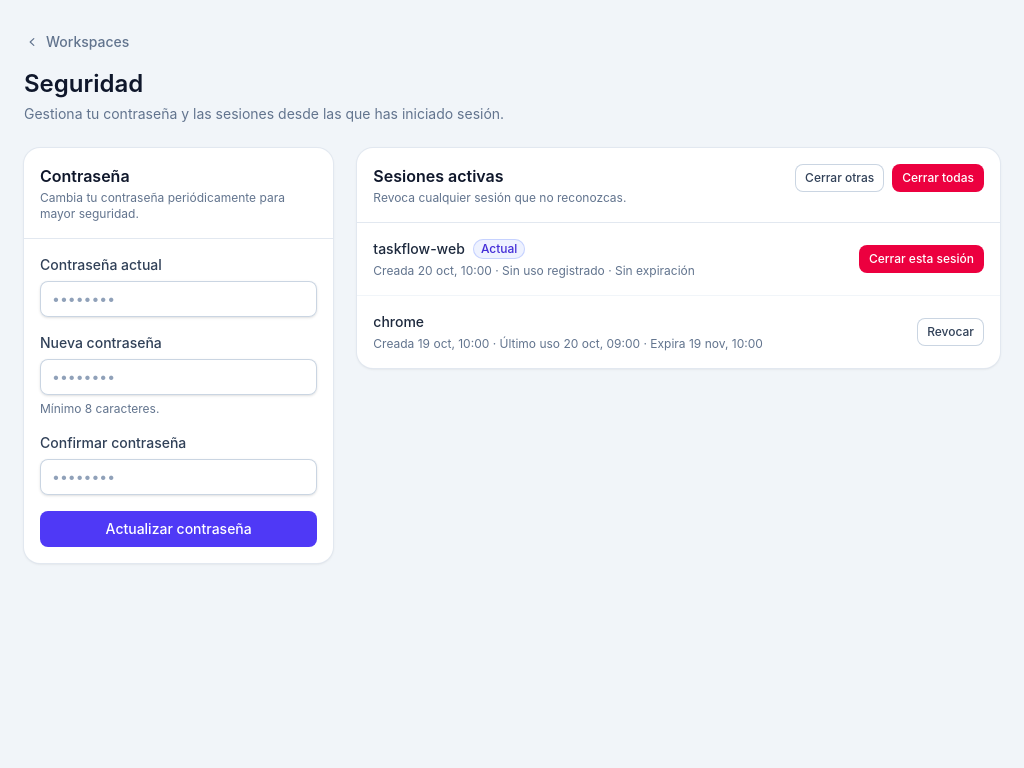
Test: SecurityPage › updates the password using the current password
This screenshot has width=1024, height=768.
Type "password" into the password field labelled "Contraseña actual" at (179, 299), box [40,281,317,317]
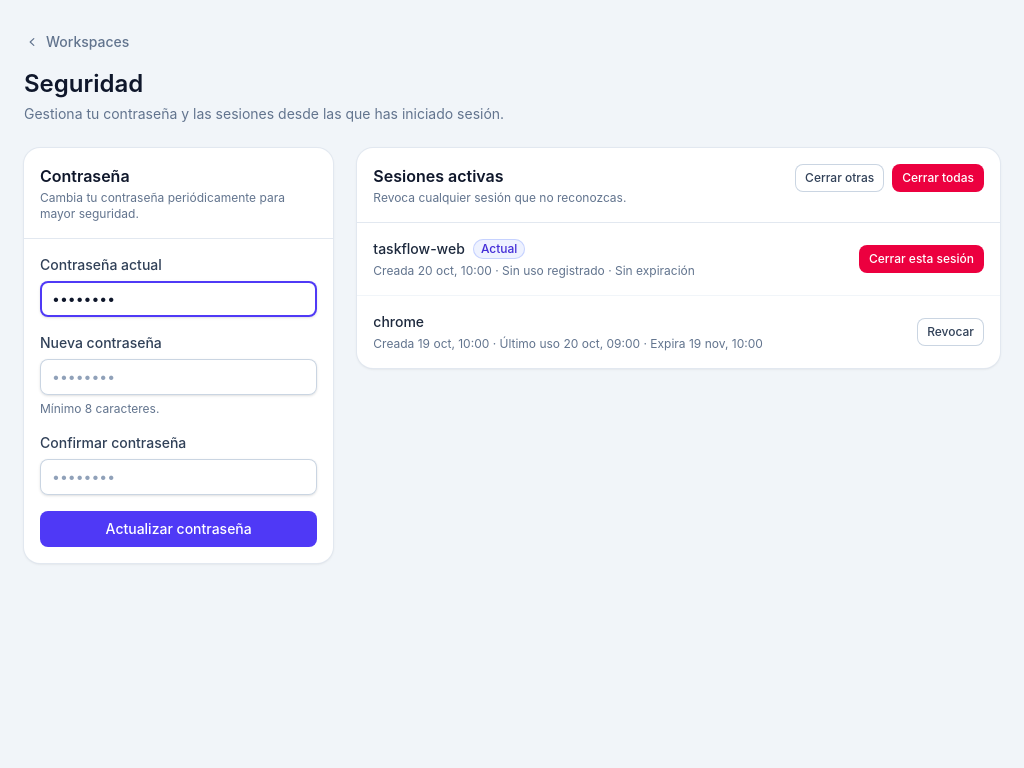
Type "NewPassword123!" into the password field labelled "Nueva contraseña" at (179, 377), box [40,359,317,395]
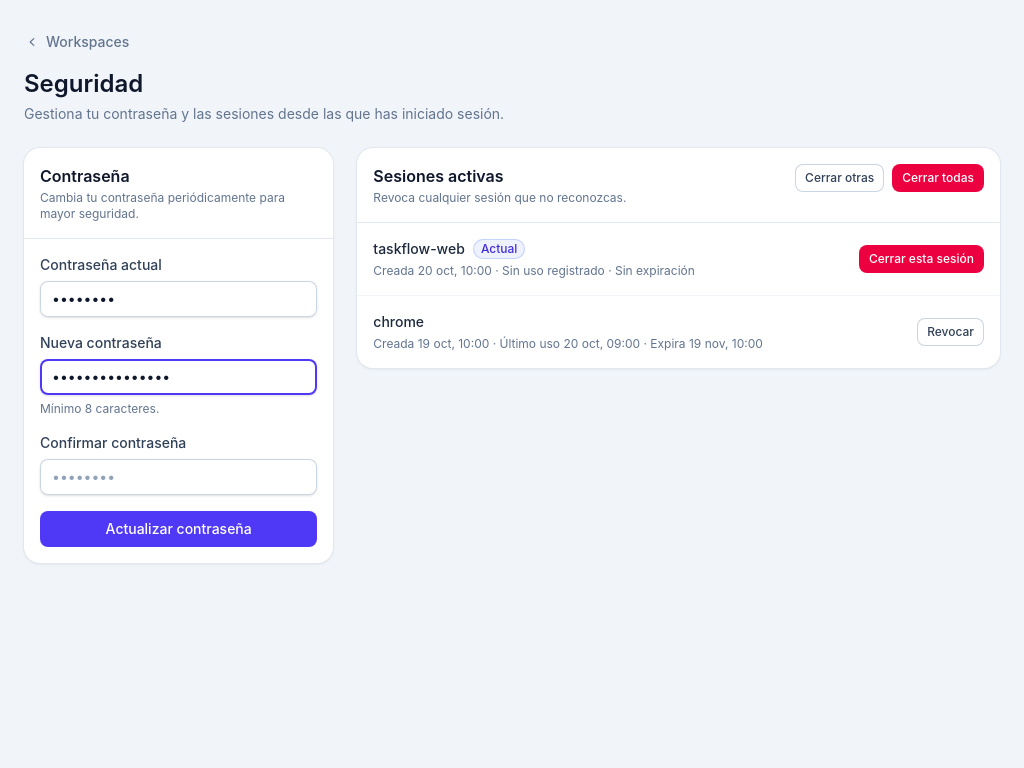
Type "NewPassword123!" into the password field labelled "Confirmar contraseña" at (179, 477), box [40,459,317,495]
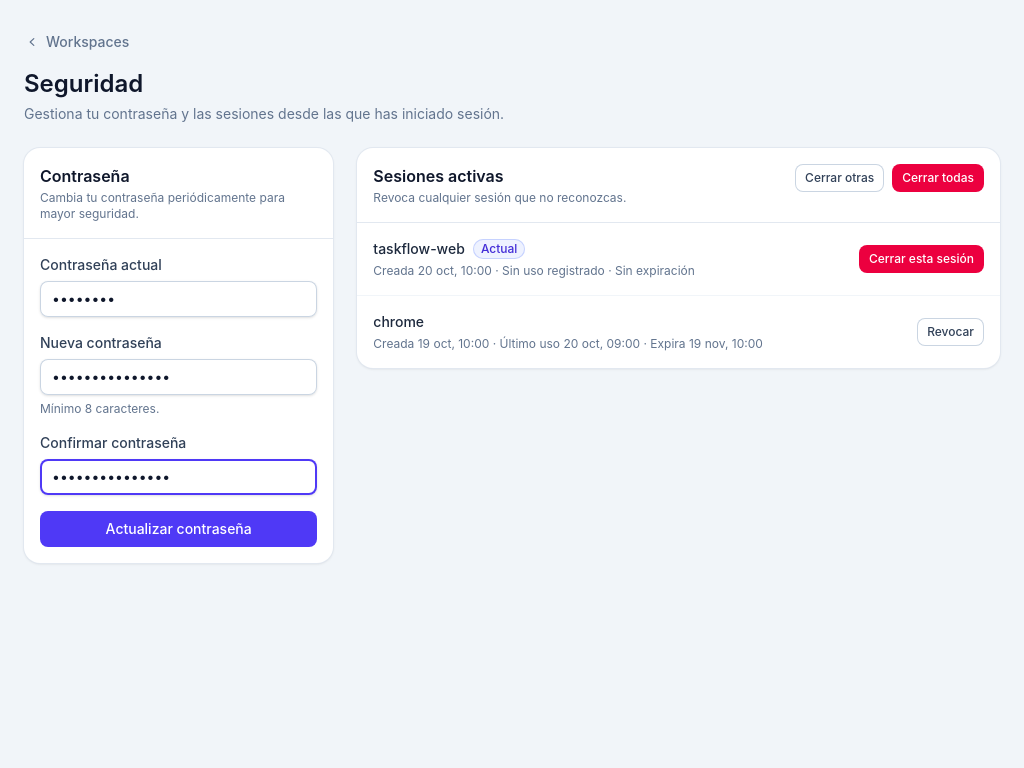
Click the button "Actualizar contraseña" at (179, 529), box [40,511,317,547]
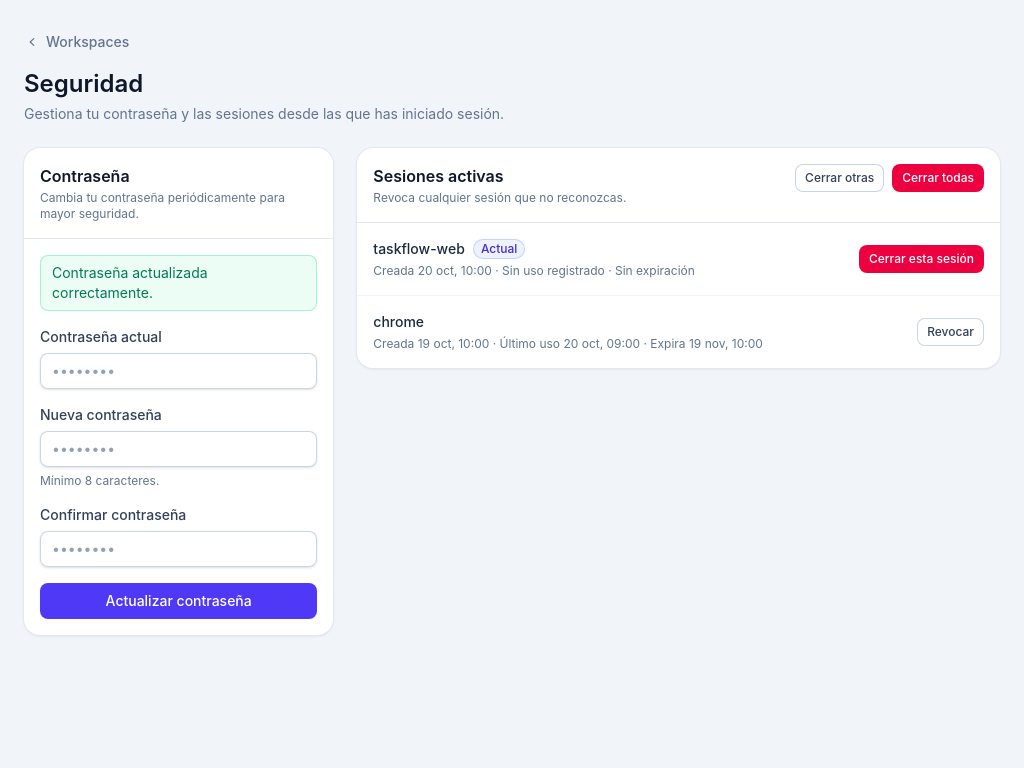
Check: the text "Contraseña actualizada correctamente." is shown, box [40,255,317,311]
